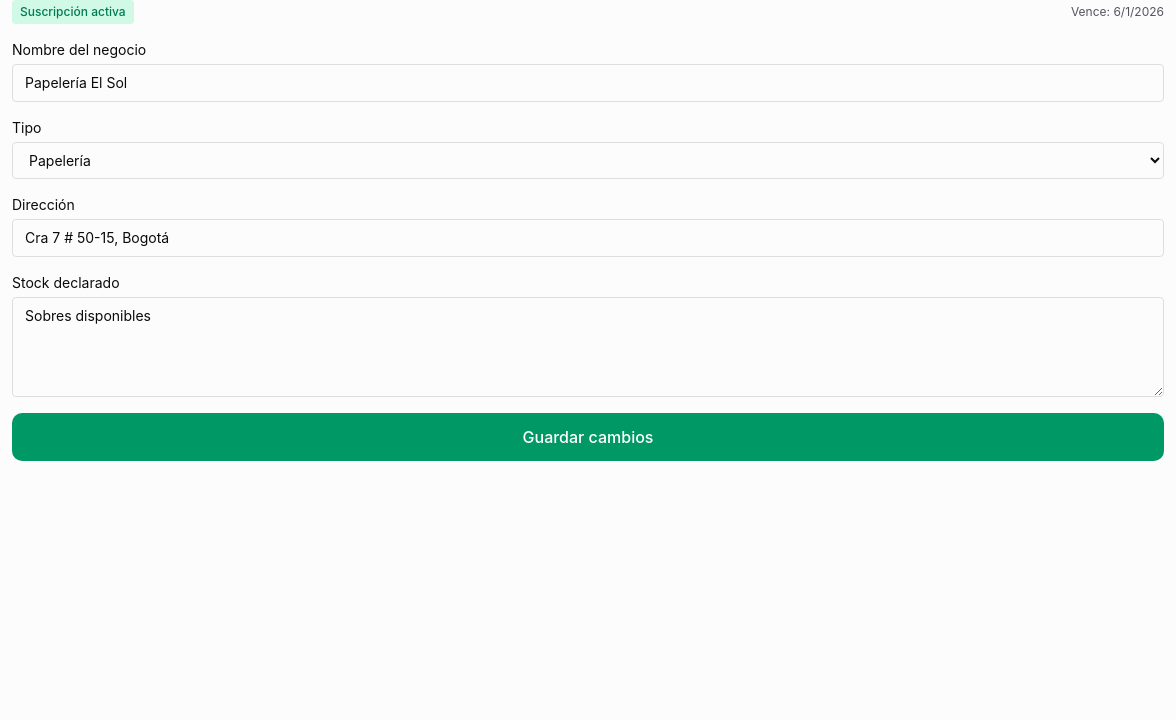
MerchantDashboardForm › submits the edited fields and confirms the save
The width and height of the screenshot is (1176, 720).
Replace the text in the text box with test id "merchant-declared-stock" with "Llegada actualizada" at (588, 347), box left=12, top=297, right=1164, bottom=397
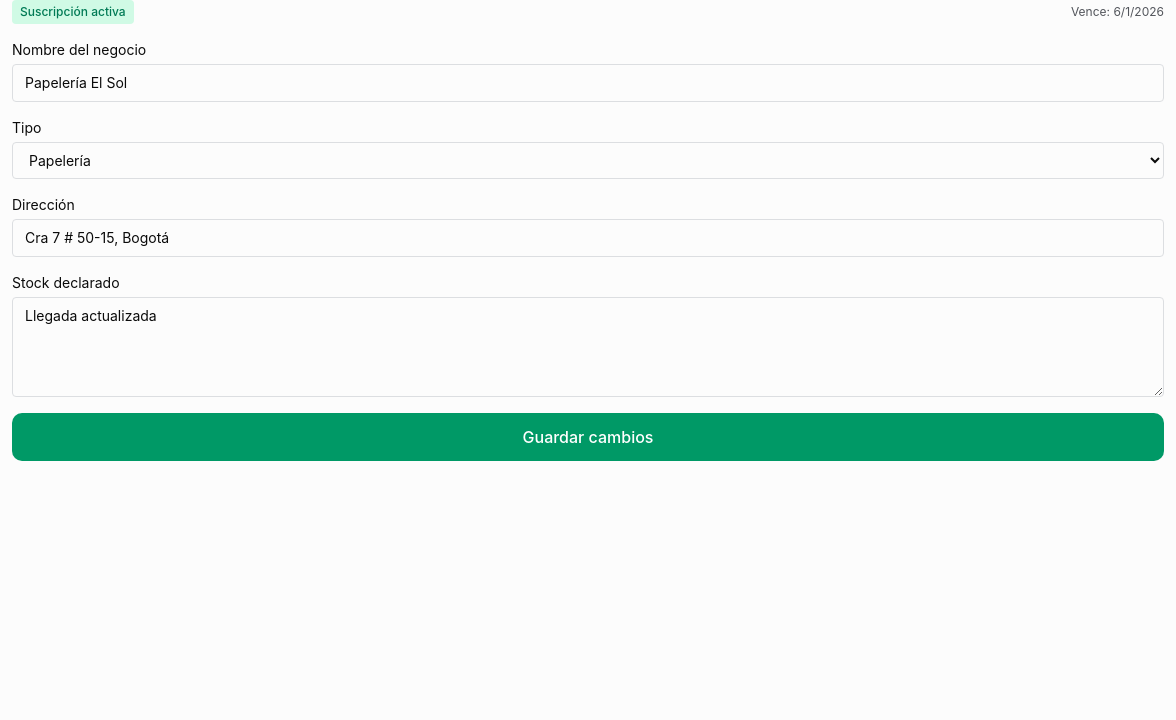
Submit the form with test id "merchant-dashboard-form"
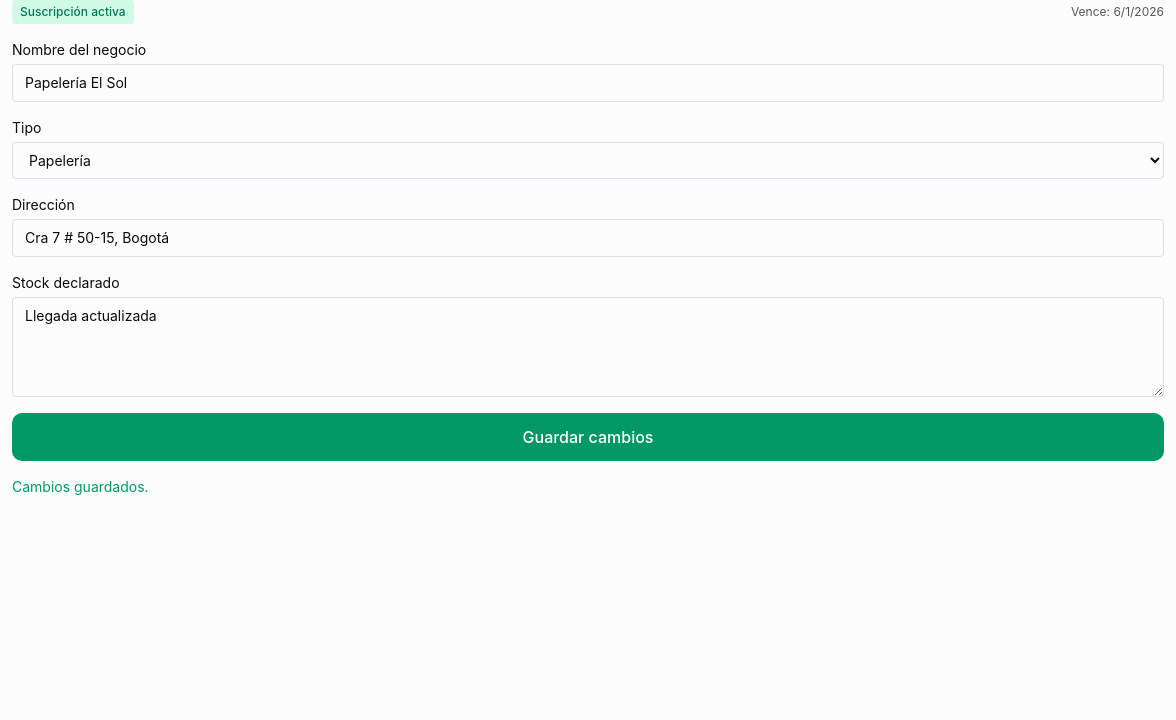
Result: the text "Cambios guardados." is shown at left=12, top=478, right=149, bottom=495
